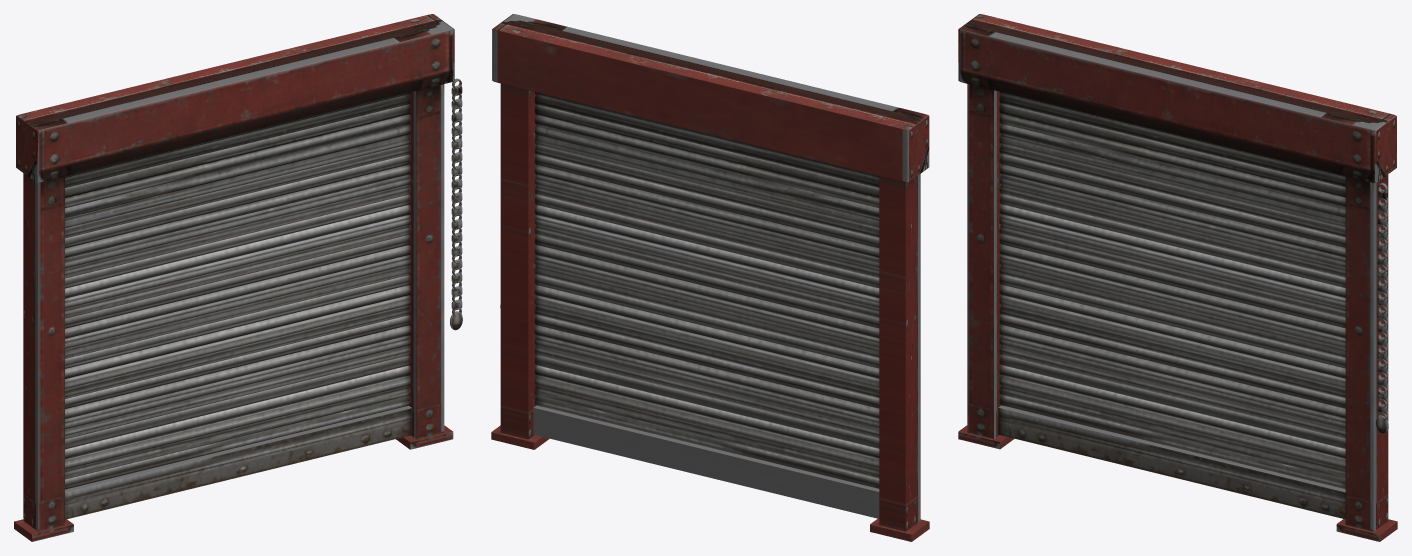
The model's file is south-shutter.glb.
3 views of the same model, side by side, from view 1: azimuth 30°, elevation 25°; view 2: azimuth 150°, elevation 25°; view 3: azimuth 330°, elevation 25° (orthographic).
Visible parts, largest first — view 1: leaf-slat (×32), hood, fixed-guide (×2), bottom-bar, anchor-foot (×2); view 2: leaf-slat (×32), hood, fixed-guide (×2), bottom-bar, anchor-foot (×2); view 3: leaf-slat (×32), hood, fixed-guide (×2), bottom-bar, anchor-foot (×2).
Part boxes in pixels (bbox=[...]): leaf-slat (×32): bbox=[65, 92, 410, 489]; hood: bbox=[16, 14, 454, 182]; fixed-guide (×2): bbox=[23, 84, 444, 531]; bottom-bar: bbox=[65, 406, 411, 519]; anchor-foot (×2): bbox=[14, 425, 453, 541]; leaf-slat (×32): bbox=[534, 92, 879, 488]; hood: bbox=[492, 14, 929, 182]; fixed-guide (×2): bbox=[500, 83, 920, 531]; bottom-bar: bbox=[533, 405, 879, 518]; anchor-foot (×2): bbox=[491, 425, 929, 541]; leaf-slat (×32): bbox=[999, 92, 1345, 489]; hood: bbox=[958, 14, 1396, 182]; fixed-guide (×2): bbox=[967, 84, 1388, 531]; bottom-bar: bbox=[998, 405, 1345, 519]; anchor-foot (×2): bbox=[958, 425, 1397, 541].
Bounding box in the file's own units: 5.86 × 5.37 × 0.5.
3 materials, 3 textured.
